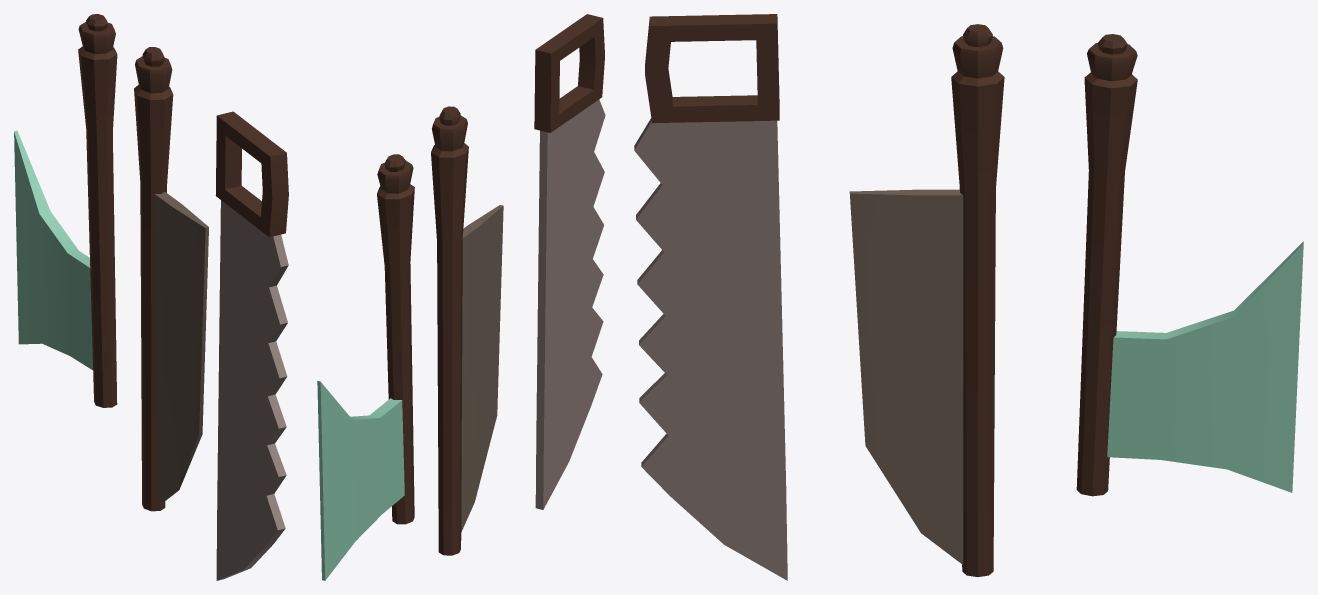
Rendered from tools.fbx.
3 renders of one model, left to right at view 1: azimuth 30°, elevation 25°; view 2: azimuth 150°, elevation 25°; view 3: azimuth 270°, elevation 25°, orthographic. The views are drawn at different scales.
Visible parts, largest first — view 1: clinic5; view 2: clinic5; view 3: clinic5.
Boxes of the visible parts, <box> form: clinic5: <box>14,14,288,580</box>; clinic5: <box>317,14,605,580</box>; clinic5: <box>634,14,1303,580</box>.
Bounding box in the file's own units: 17.84 × 213 × 231.
